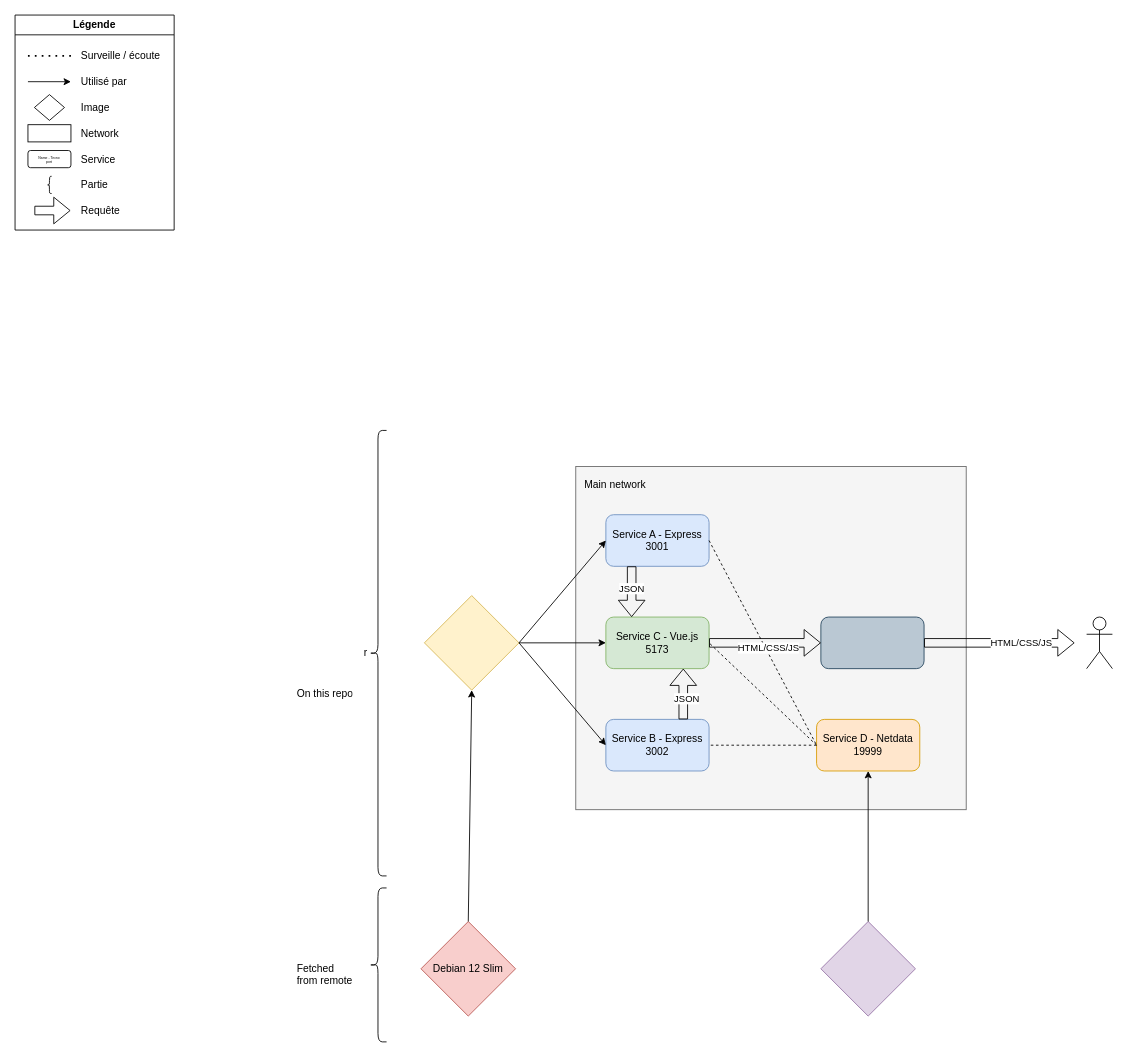
The diagram is 1137 pixels wide and 1057 high, and some of its shapes have lost their labels. Here are the shapes that lost their labels. From the top down, the centre of each, then its label:
(x=471, y=642): "Node base" A custom node image
(x=872, y=642): Service E - Traefik 80, 8080
(x=1099, y=642): Final user
(x=867, y=968): Netdata stable version
